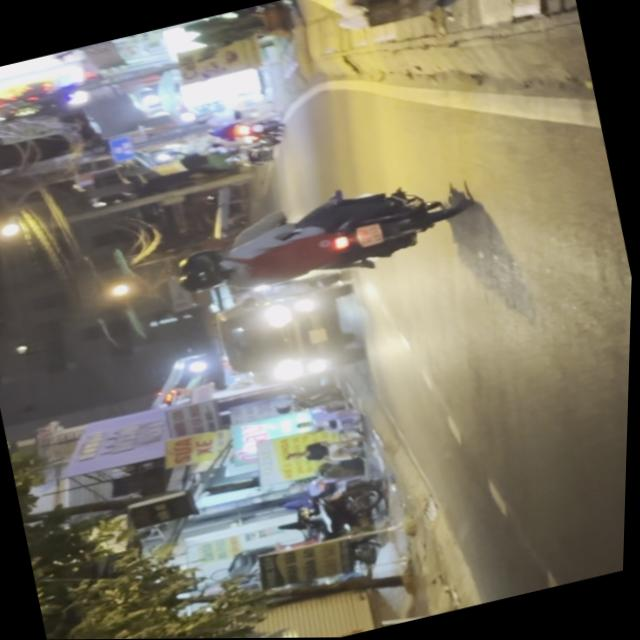helmet: (175, 246, 232, 281), (176, 265, 228, 298)
licenseplate: (162, 165, 478, 315)
nohelmet: (356, 223, 384, 248)
